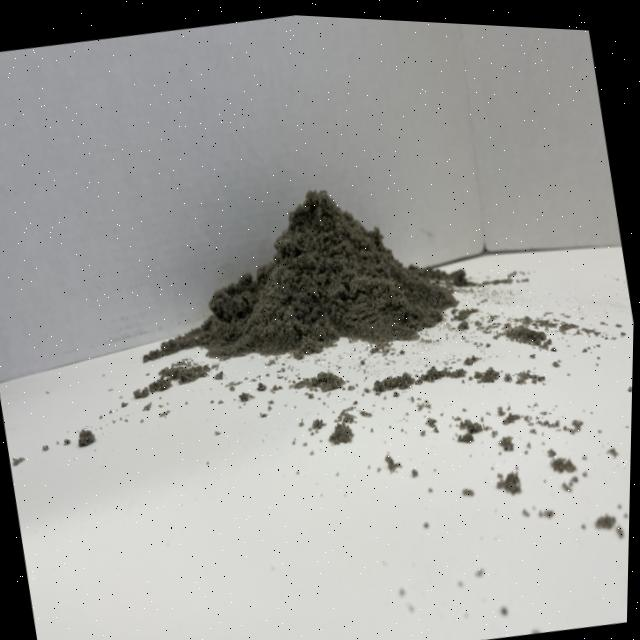sand: (189, 146, 470, 393)
